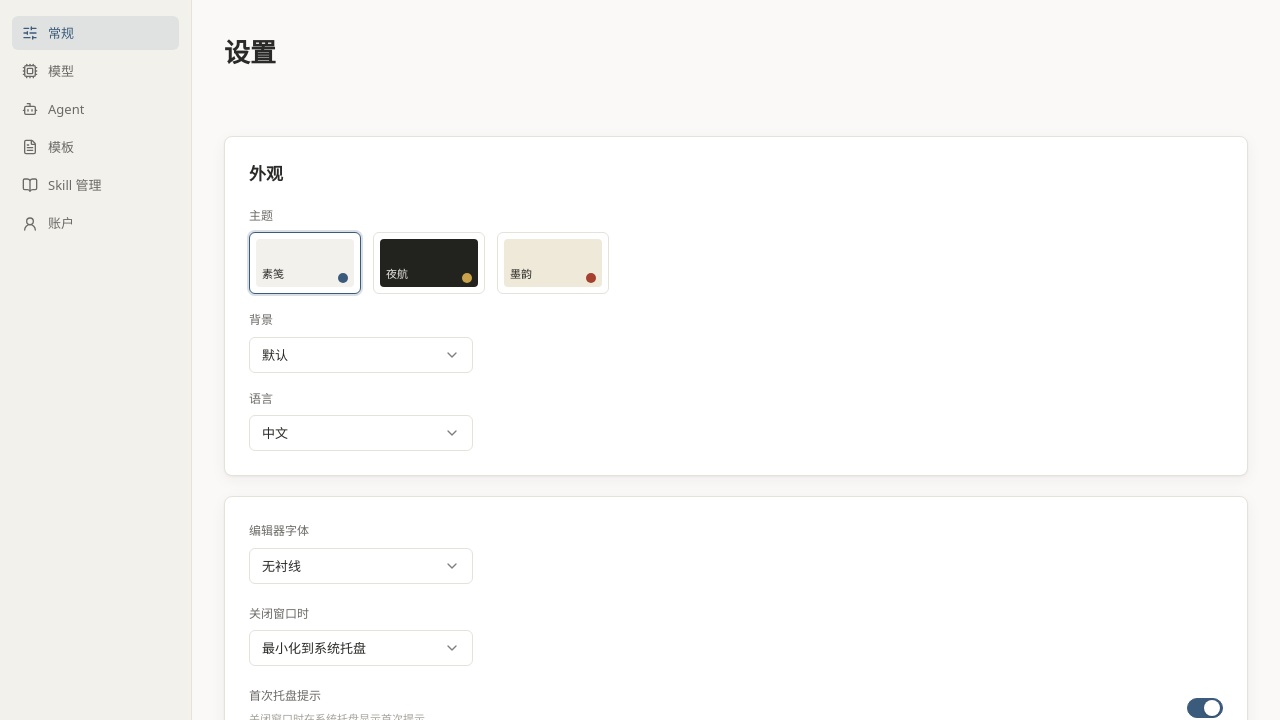
it: 设置页 — 下拉即改即存分支（#105 补测） › 编辑器字体下拉：切换 → 触发回读选中值（本地状态）
The image size is (1280, 720).
Click the dropdown named "编辑器字体" at x=361, y=566, box [249,548,473,584]
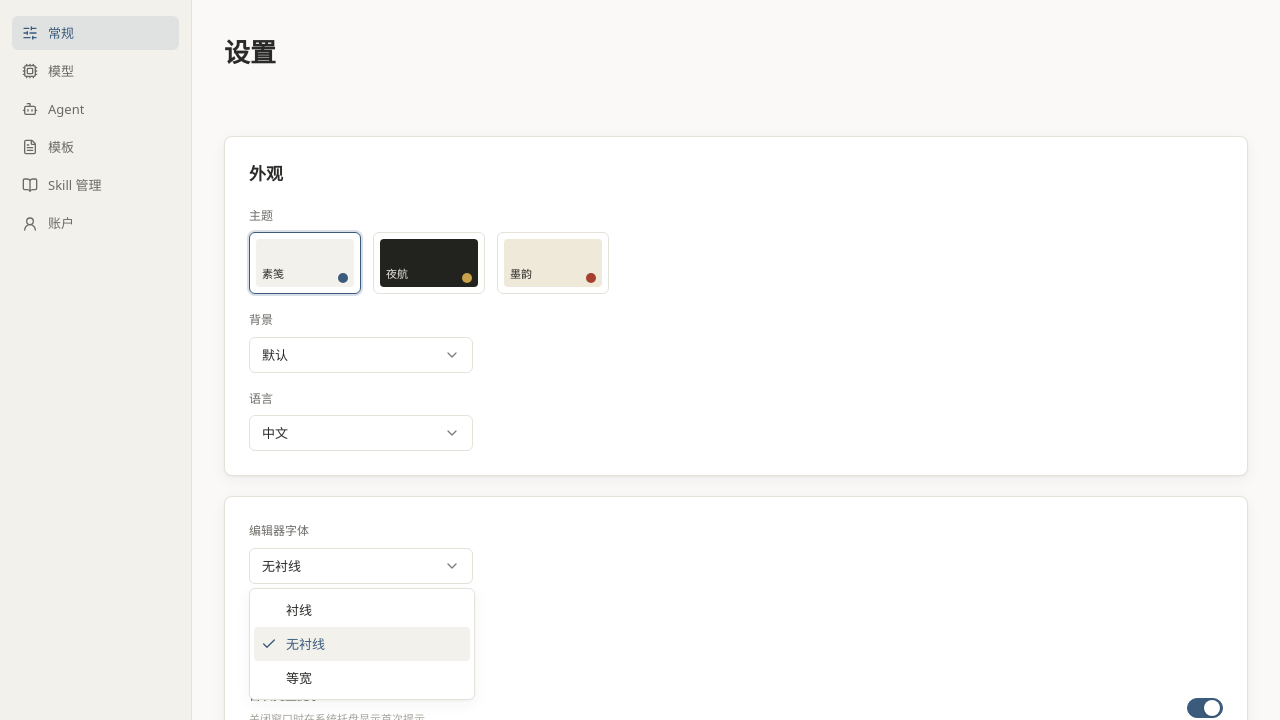
Click the option "等宽" at x=299, y=678, box [286,669,312,687]
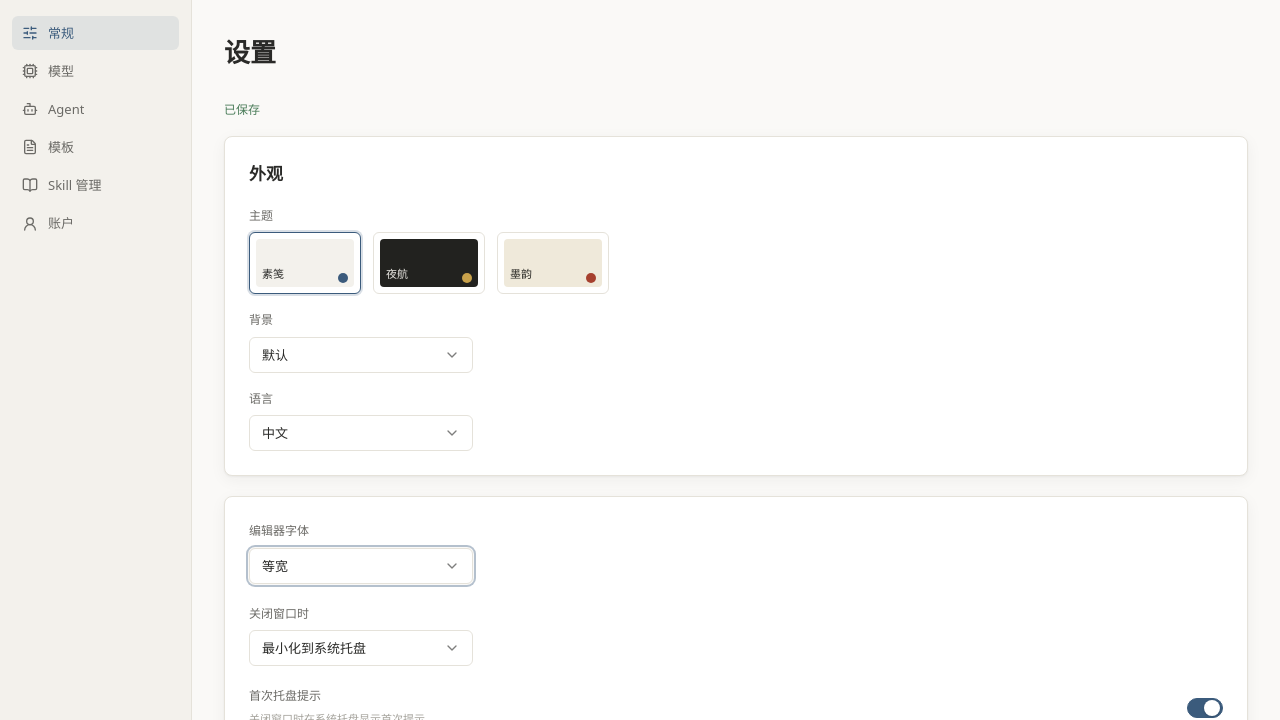
Now the dropdown named "编辑器字体" reads "等宽", box [249,548,473,584]
